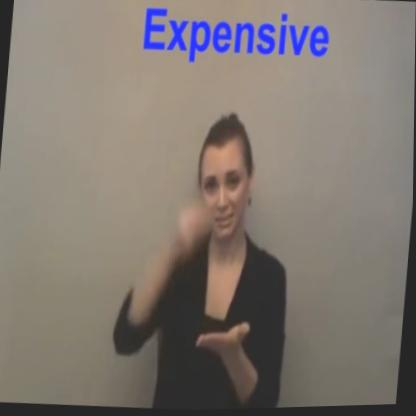Expensive: (148, 188, 270, 367)
